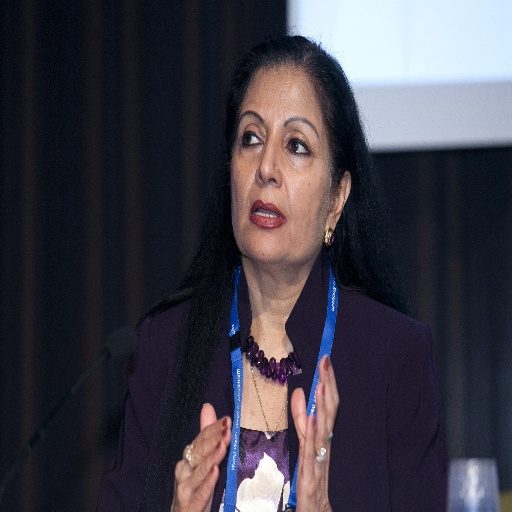hand: (294, 341, 342, 512), (169, 402, 233, 511)
